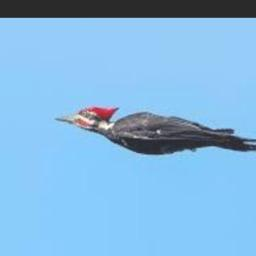Woodpecker: (57, 105, 256, 155)
